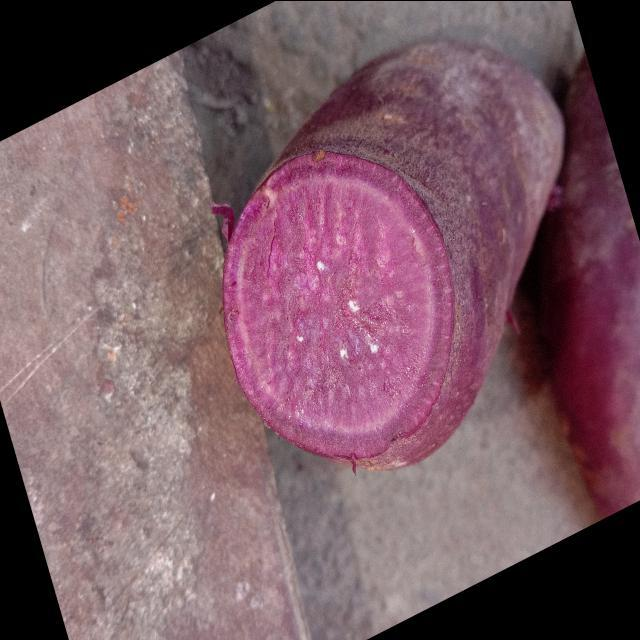Healthy Sweet Potato: (224, 152, 454, 458)
